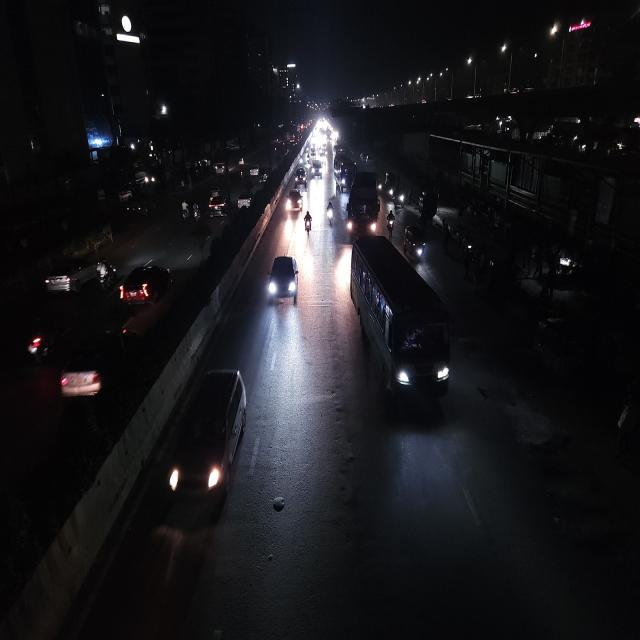bus: (348, 230, 456, 409), (346, 166, 382, 240), (332, 145, 352, 190)
car: (168, 362, 250, 513), (59, 321, 137, 410), (119, 260, 175, 311), (43, 255, 93, 297), (264, 251, 300, 308), (402, 222, 428, 263), (207, 187, 229, 219), (284, 187, 304, 214), (236, 191, 254, 211), (293, 166, 308, 189), (213, 158, 229, 176), (257, 167, 270, 186), (311, 160, 323, 179), (248, 164, 262, 180)
cng: (394, 185, 409, 208)
motorcycle: (25, 318, 53, 368), (94, 257, 117, 290), (324, 197, 336, 230), (302, 208, 314, 236), (386, 208, 396, 236), (237, 154, 247, 178), (180, 200, 190, 220), (192, 202, 200, 224)
